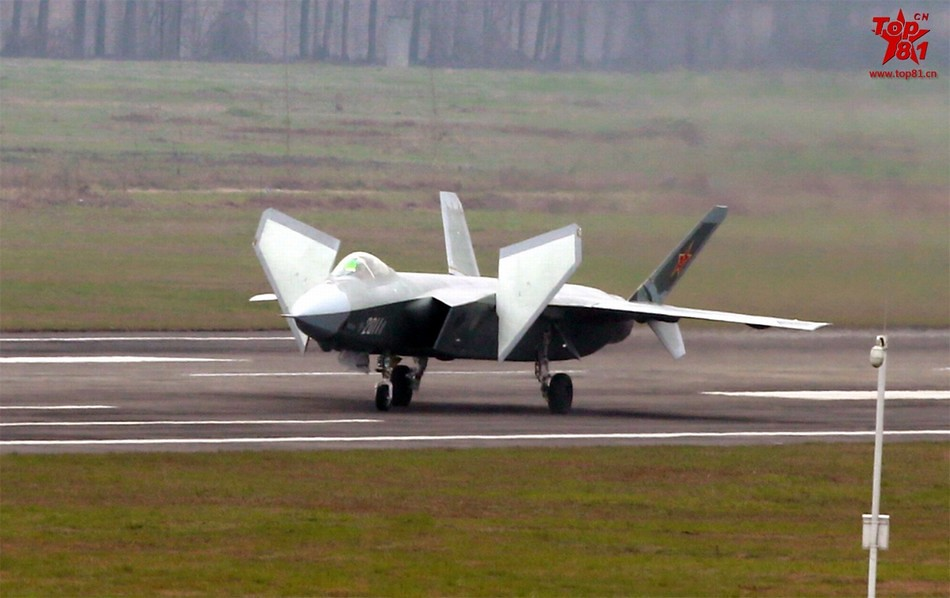J20: (248, 190, 835, 414)
